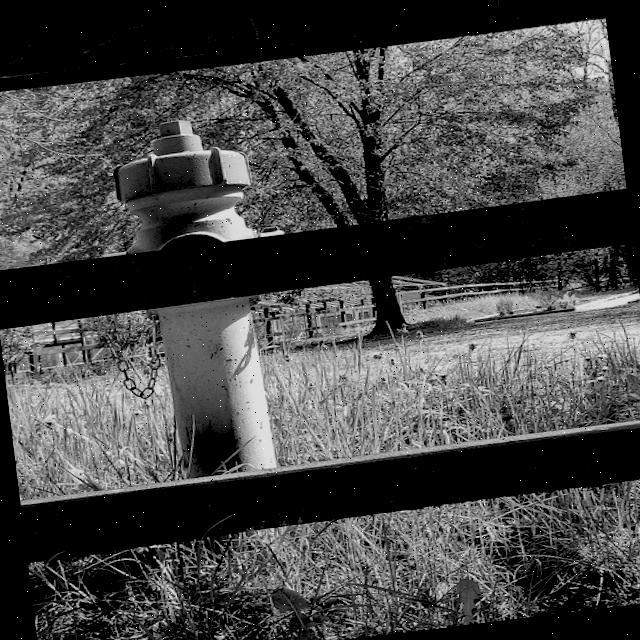fire_hydrant: (109, 108, 318, 479)
